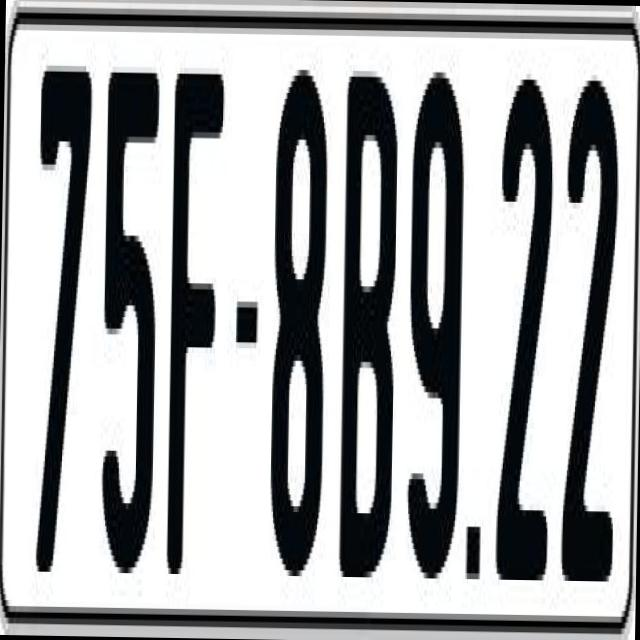2: (560, 63, 628, 570), (494, 78, 556, 598)
5: (98, 59, 160, 562)
7: (30, 65, 90, 578)
8: (267, 63, 336, 582)
9: (404, 60, 472, 567)
B: (338, 59, 400, 596)
F: (166, 73, 224, 586)
